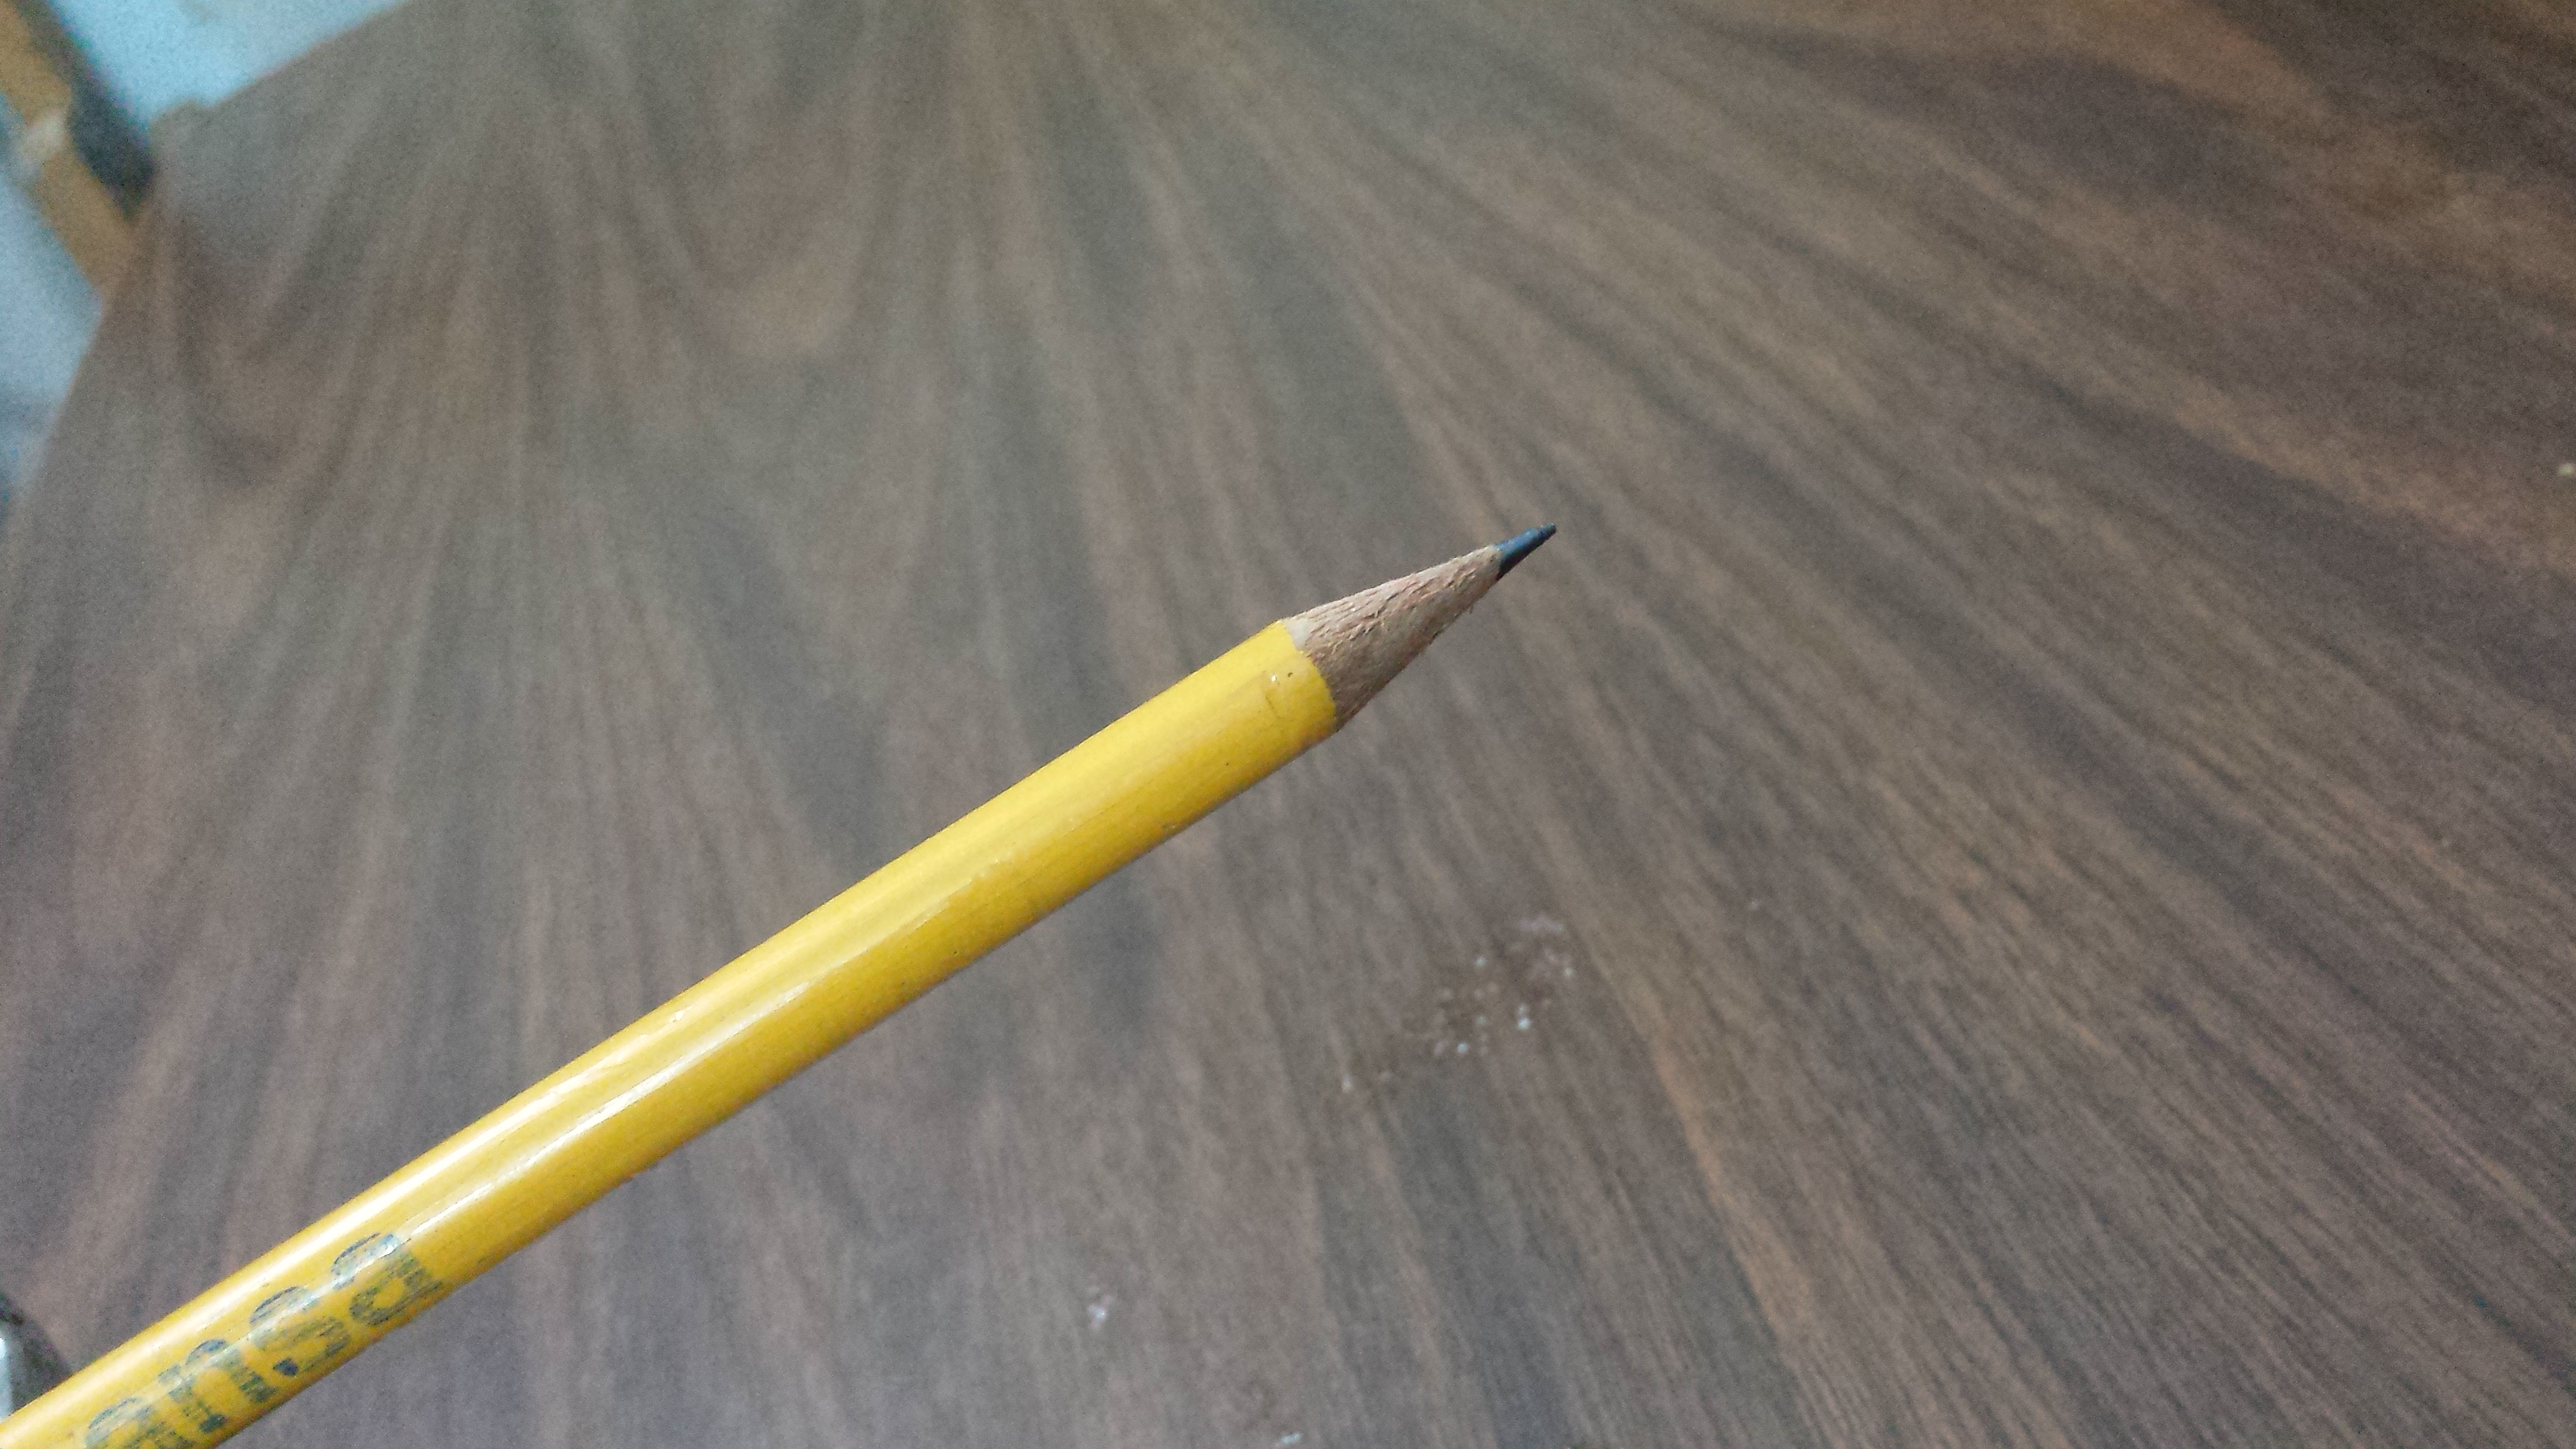pen_tip: (1219, 412, 1660, 803)
